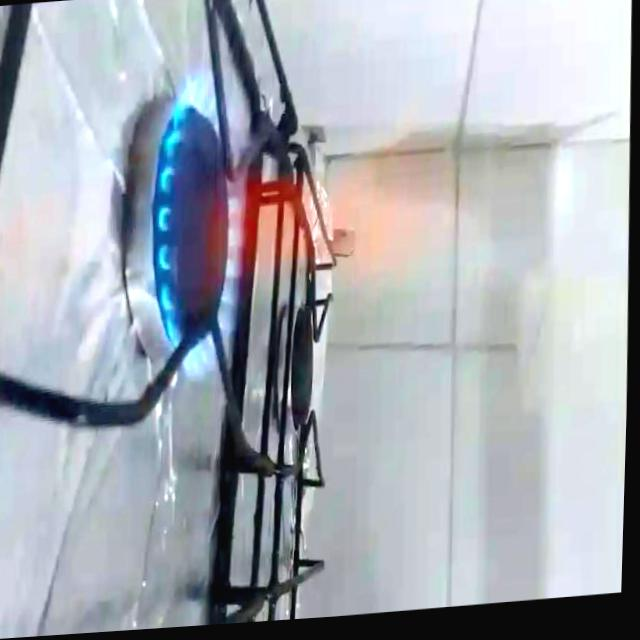helmet: (150, 66, 260, 389)
